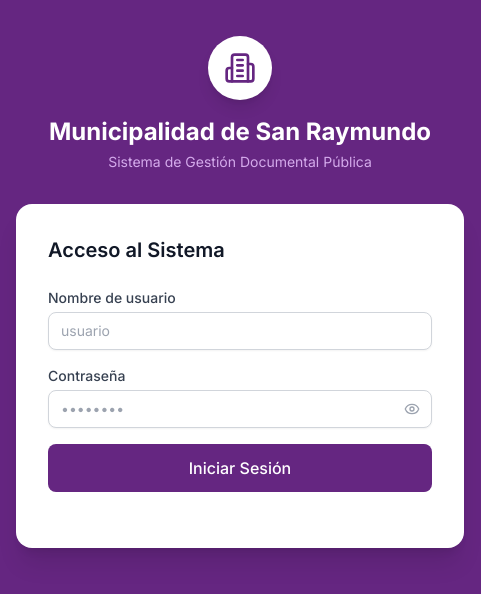
Test: LoginPage › muestra errores de validación si los campos están vacíos
The image size is (481, 594).
Click the button "Iniciar Sesión" at (240, 468), box [48, 444, 432, 492]
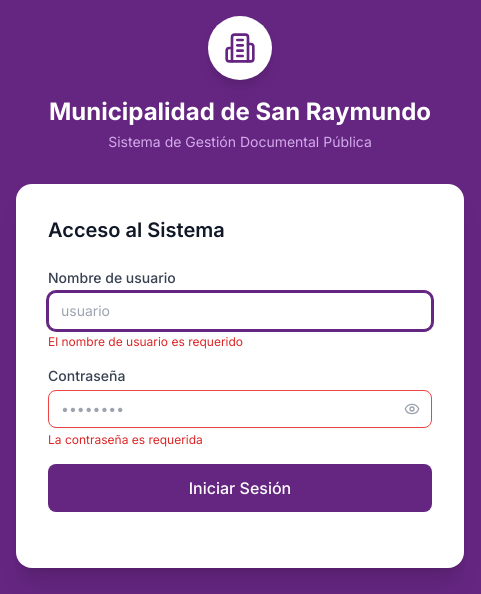
Check: the text "El nombre de usuario es requerido" is shown, box [48, 334, 243, 349]
Check: the text "La contraseña es requerida" is shown, box [48, 432, 203, 447]
